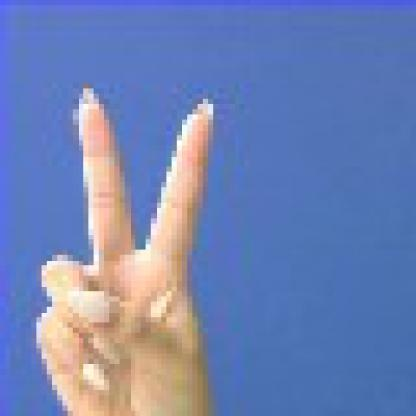two: (26, 78, 229, 411)
